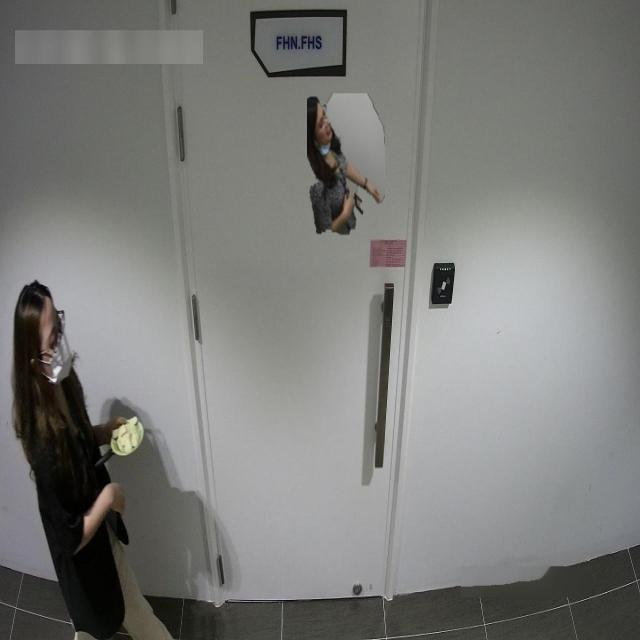hairnet: (312, 104, 334, 162)
